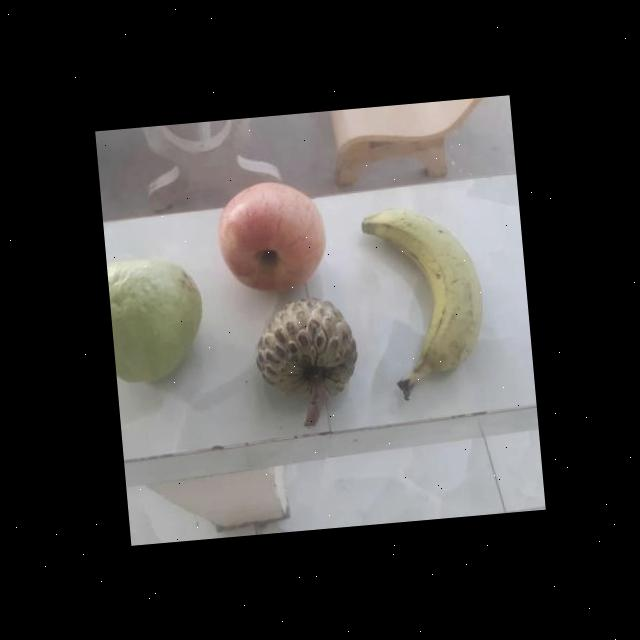Sakya fruit: (245, 294, 359, 411)
apple: (209, 178, 331, 298)
banana: (353, 202, 488, 386)
guava: (106, 256, 204, 382)
